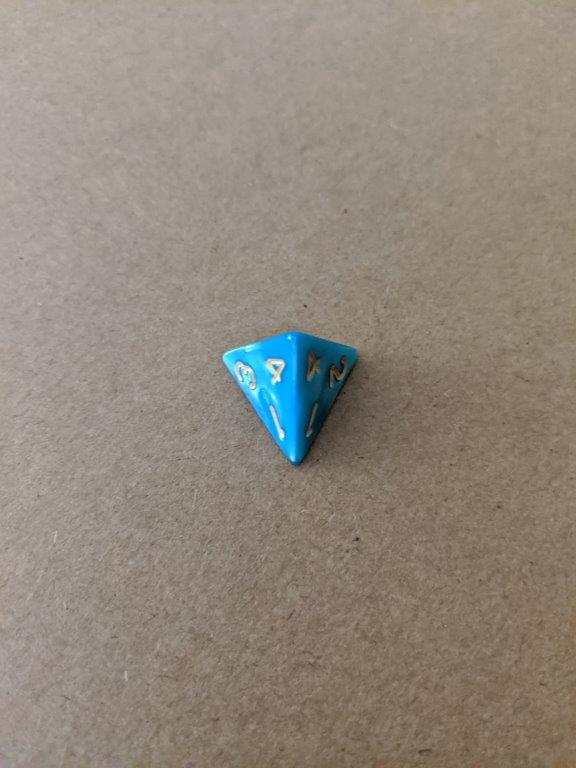d4-4: (218, 329, 365, 471)
